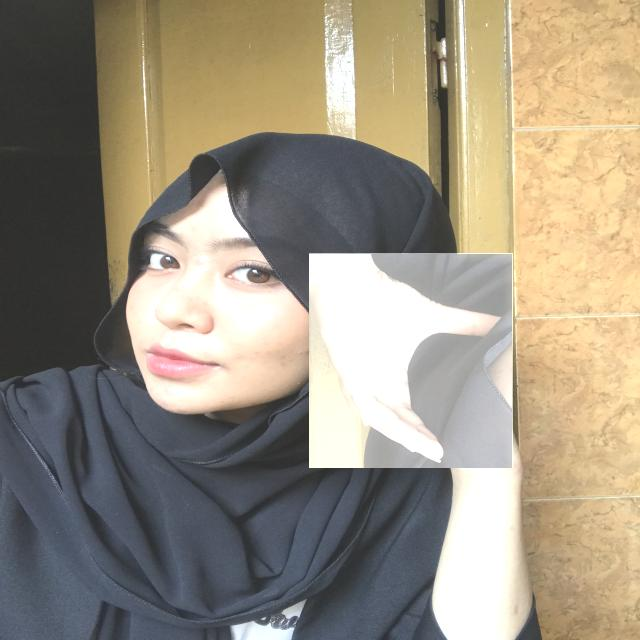mendengar: (309, 253, 513, 468)
